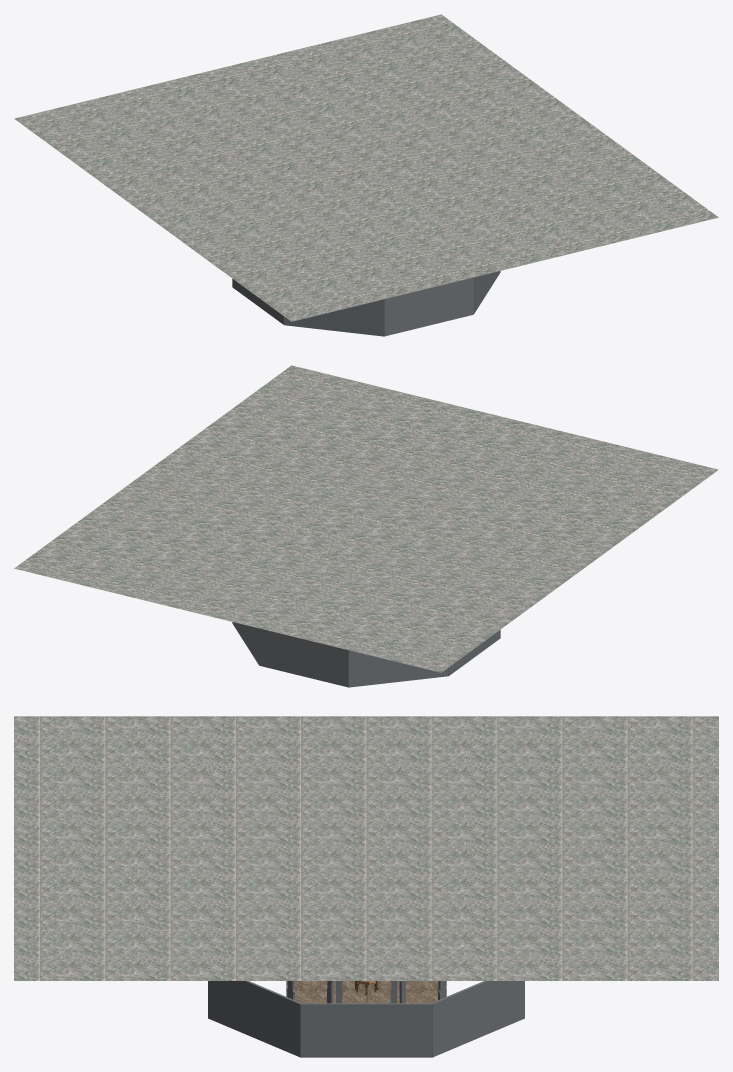
Rendered from room.glb.
The picture shows the model from 3 angles, top to bottom: view 1: azimuth 30°, elevation 25°; view 2: azimuth 150°, elevation 25°; view 3: azimuth 270°, elevation 25°; orthographic projection. The views are drawn at different scales.
Parts seen in each view (by area): view 1: GAZEBO-ROOM; view 2: GAZEBO-ROOM; view 3: GAZEBO-ROOM.
Boxes of the visible parts, x1,y1,x2,y2 form: GAZEBO-ROOM: (14, 14, 718, 336); GAZEBO-ROOM: (14, 365, 718, 687); GAZEBO-ROOM: (14, 716, 718, 1057).
Size of the model in its own units: 32 by 8.06 by 36.
1 material, 1 textured.
